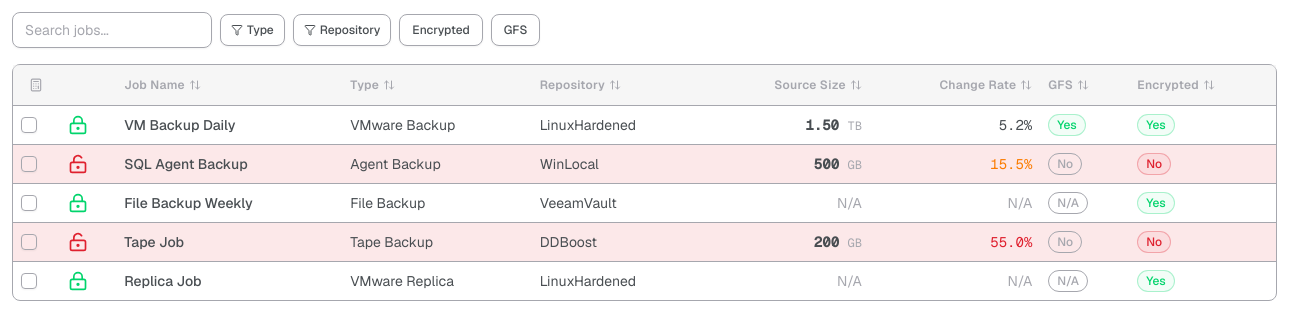
Scenario: JobTable › filters jobs by name using search input
In the field with placeholder "Search jobs...": coordinates (112, 30) [12,12,212,48], type "SQL"
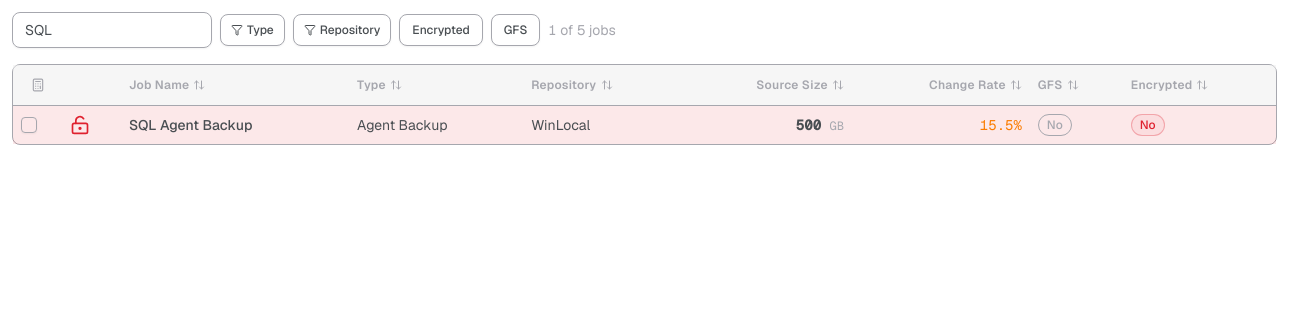
Expected: the text "SQL Agent Backup" is shown, [129,116,252,134]
Expected: the button "VM Backup Daily" is gone
